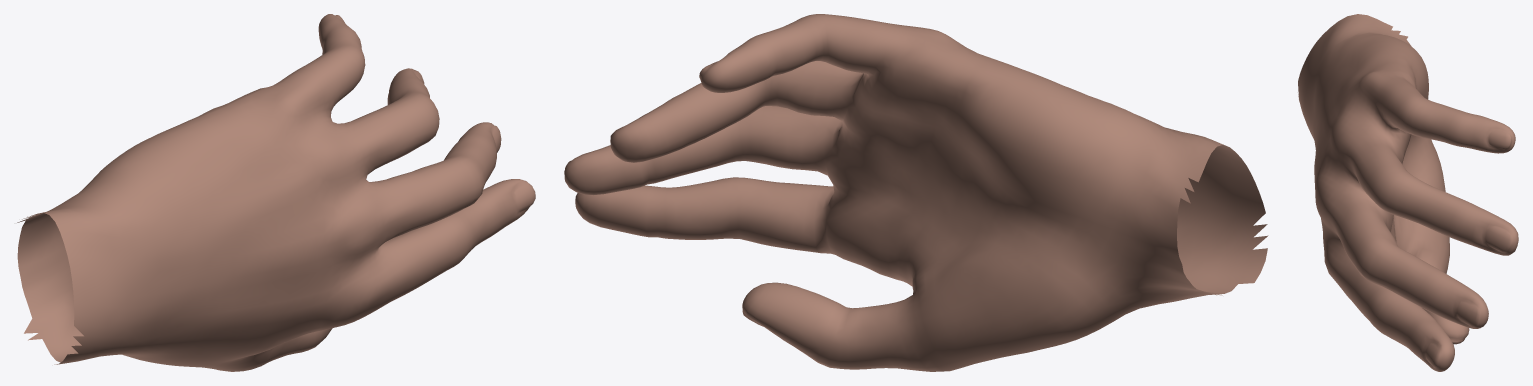
Rendered from hand_l.fbx.
3 views of the same model, side by side, from view 1: azimuth 30°, elevation 25°; view 2: azimuth 150°, elevation 25°; view 3: azimuth 270°, elevation 25° (orthographic). The views are drawn at different scales.
Visible parts, largest first — view 1: hand_l-1; view 2: hand_l-1; view 3: hand_l-1.
Boxes of the visible parts, x1,y1,x2,y2 form: hand_l-1: (17,14,535,371); hand_l-1: (564,14,1268,371); hand_l-1: (1298,14,1518,371).
Bounding box in the file's own units: 0.1737 × 0.0702 × 0.0909.
